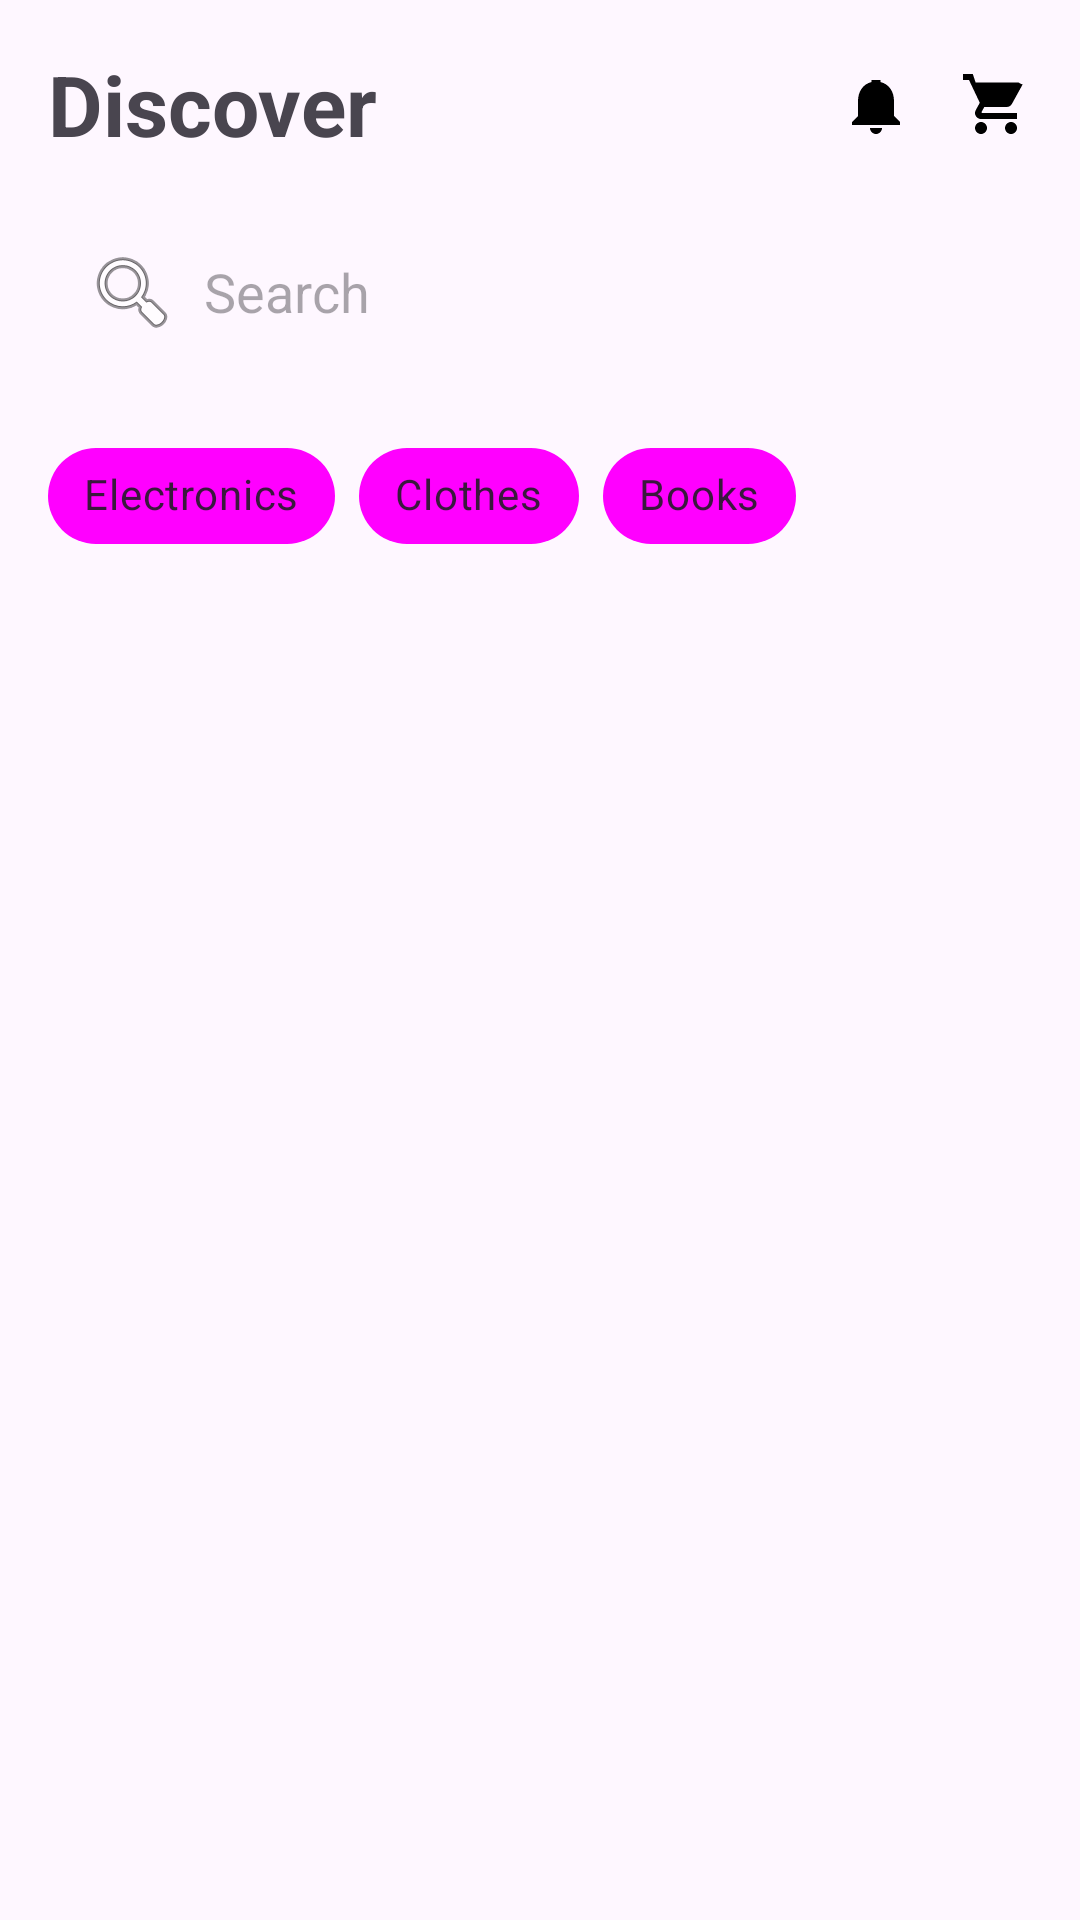

Named icons in this screenshot (1080×1920) and their bounding boxes, box=[x1, y1, x2, y2]:
cart: box=[963, 74, 1023, 134]
notifications: box=[852, 80, 900, 134]
